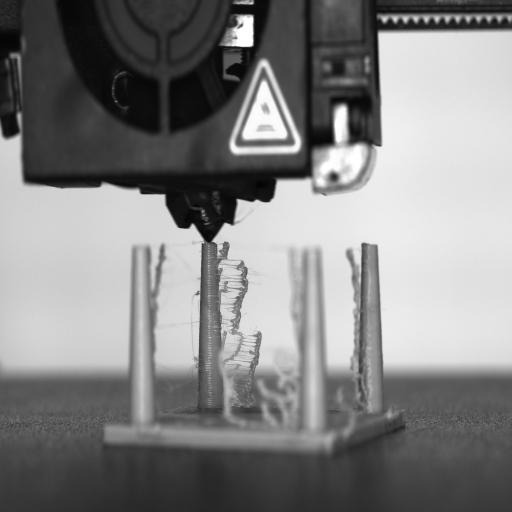spaghetti_and_stringing: (136, 240, 360, 429)
